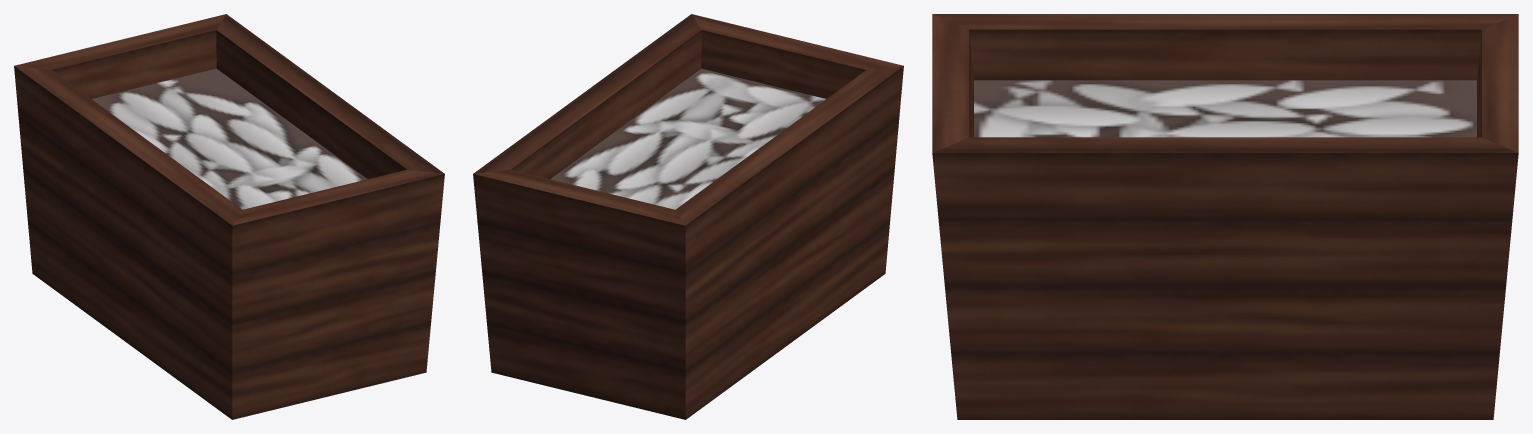
Rendered from co_FishesCrate.fbx.
3 renders of one model, left to right at view 1: azimuth 30°, elevation 25°; view 2: azimuth 150°, elevation 25°; view 3: azimuth 270°, elevation 25°, orthographic. The views are drawn at different scales.
Visible parts, largest first — view 1: FishesCrate; view 2: FishesCrate; view 3: FishesCrate.
Boxes of the visible parts, left/top/right/bottom form: FishesCrate: left=14, top=14, right=444, bottom=419; FishesCrate: left=473, top=14, right=903, bottom=419; FishesCrate: left=932, top=14, right=1518, bottom=419.
Size of the model in its own units: 272 by 249 by 485.
